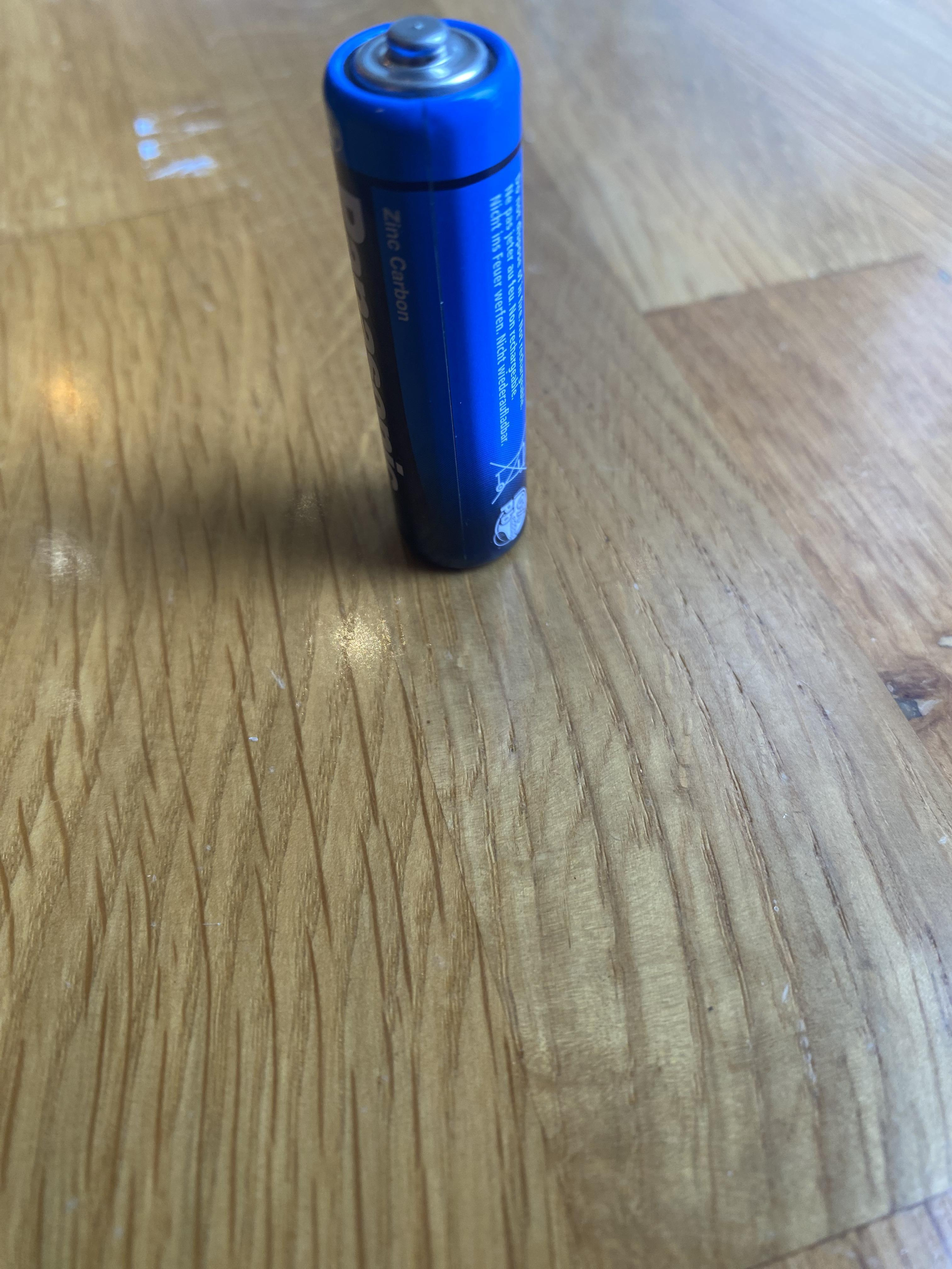AA: (320, 7, 536, 575)
